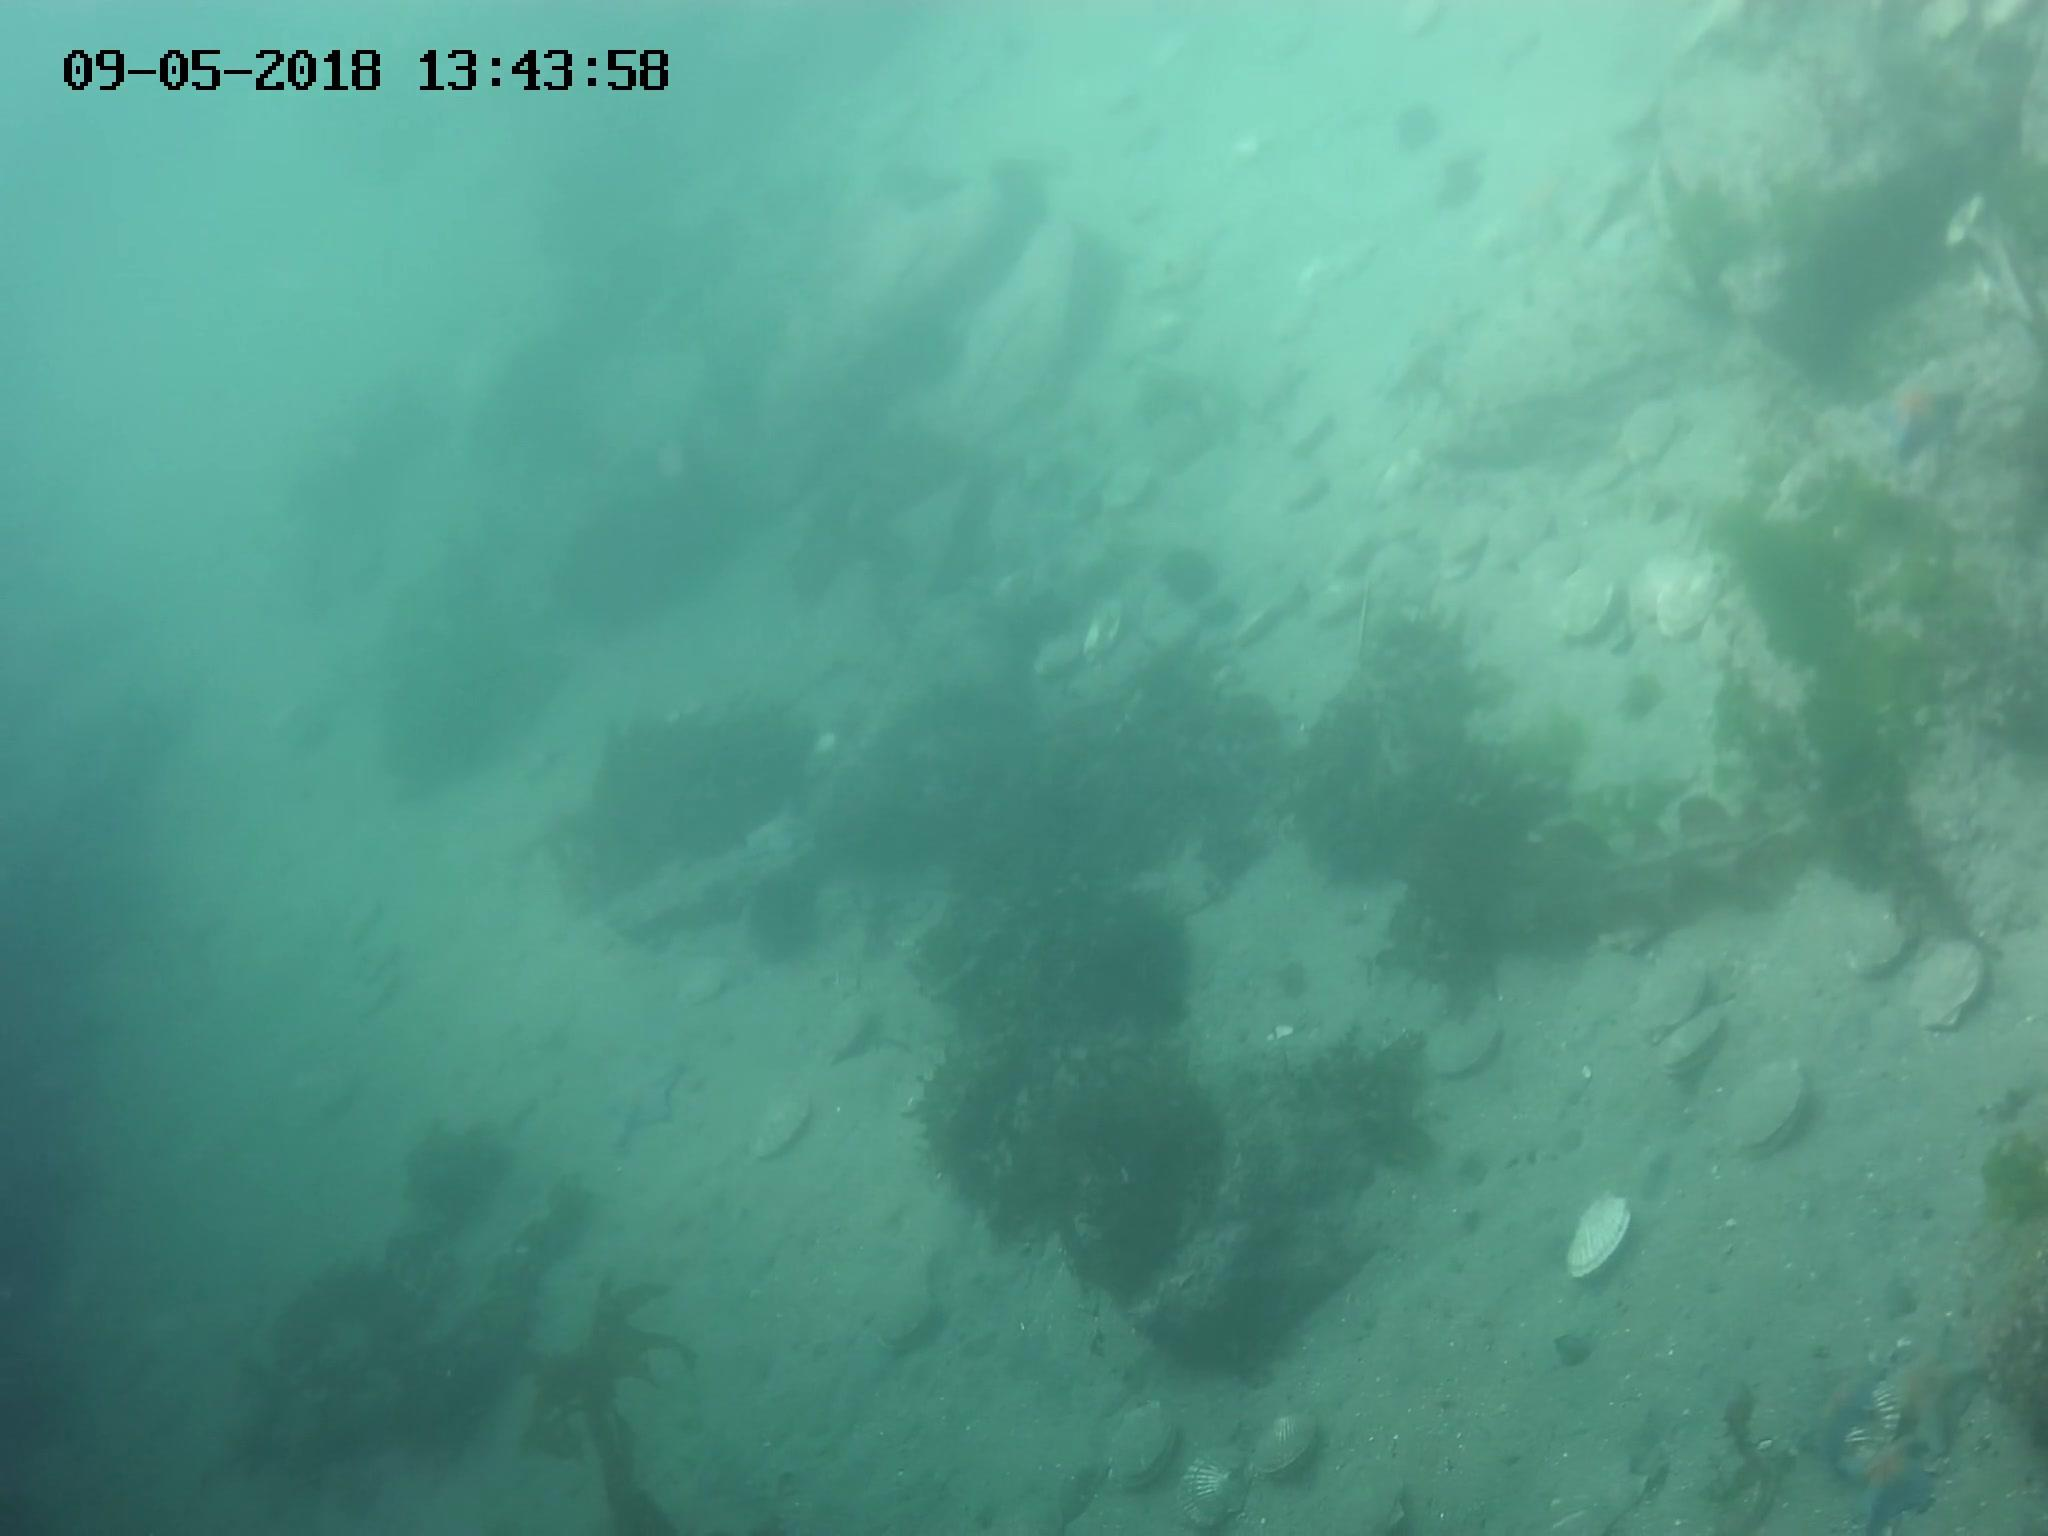scallop: (1901, 934, 1990, 1039), (1722, 1062, 1813, 1158), (1103, 1397, 1185, 1489), (1564, 1187, 1638, 1288), (1176, 1442, 1256, 1534), (1250, 1402, 1329, 1483), (1429, 1012, 1514, 1084), (1651, 1012, 1738, 1083), (1848, 1383, 1909, 1478), (1637, 966, 1722, 1031), (747, 1092, 822, 1163), (1659, 563, 1730, 637), (1622, 399, 1687, 476), (1551, 581, 1630, 644), (1335, 1476, 1414, 1536), (1713, 1467, 1780, 1536), (1843, 928, 1916, 986), (1490, 508, 1563, 558), (1080, 600, 1134, 666), (1526, 539, 1588, 592), (1358, 542, 1426, 591), (1027, 632, 1092, 681), (1434, 516, 1501, 557), (1101, 471, 1161, 513), (1326, 524, 1379, 570), (1305, 587, 1359, 629), (1285, 410, 1335, 453), (1280, 470, 1329, 513)
starfish: (1890, 1323, 1995, 1434), (1874, 365, 1972, 470), (1856, 1430, 1945, 1536), (1793, 1362, 1880, 1455), (606, 1055, 689, 1150)
